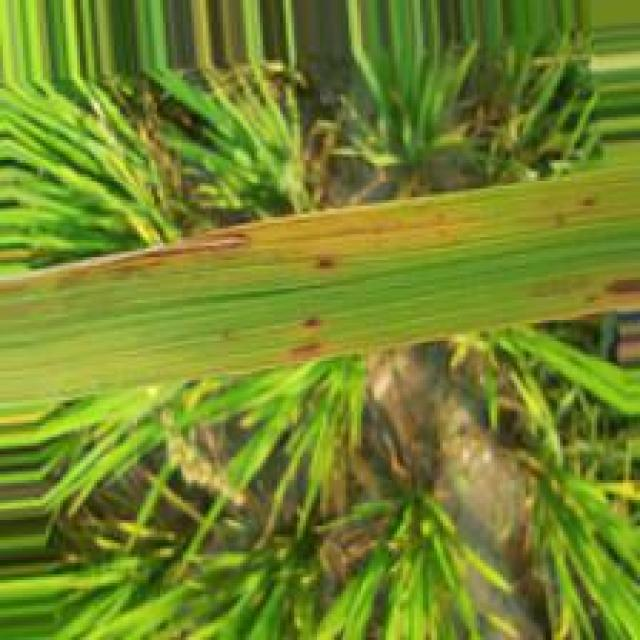Brown_Spot: (32, 219, 256, 284), (594, 277, 640, 299), (306, 316, 317, 329), (322, 259, 330, 267)
